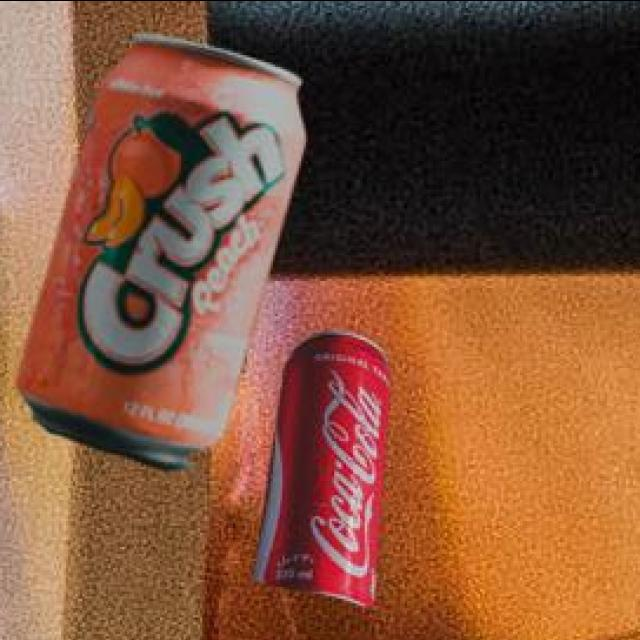logam: (13, 36, 302, 474), (251, 335, 387, 611)
